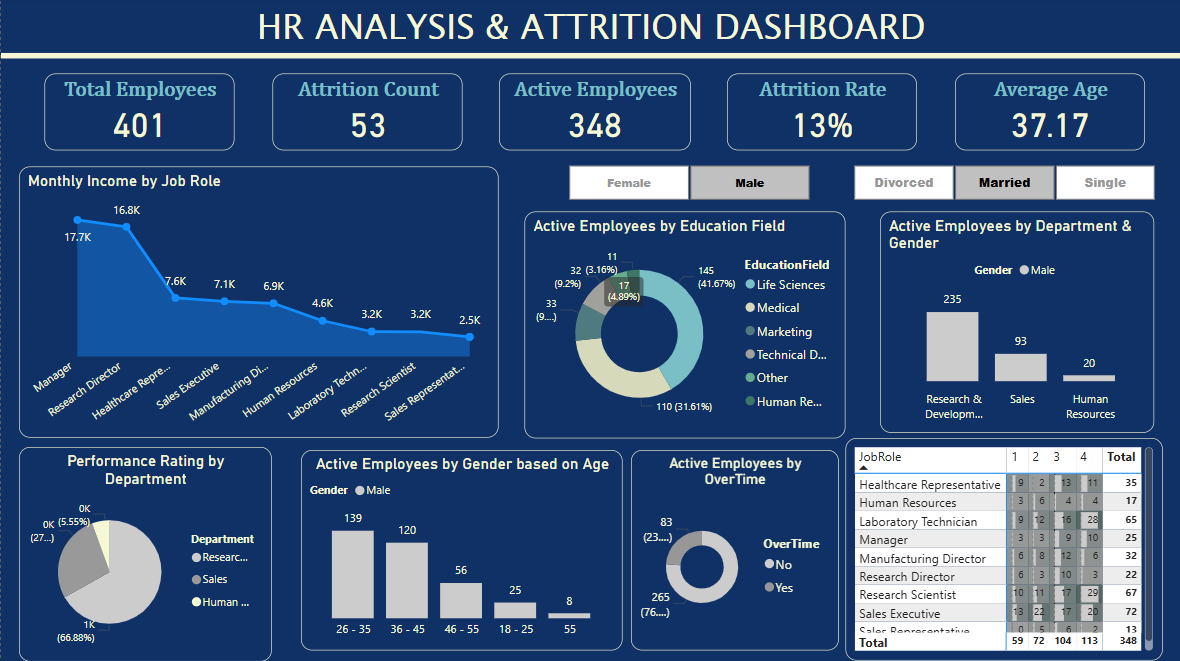

This screenshot's page, from the dashboard's own definition file:
{"tool":"powerbi","page":{"name":"Page 1","canvas":[1280,720],"ordinal":0},"visuals":[{"type":"shape","box":[0,46.2,1280,36.2],"z":0},{"type":"card","title":"Total Employees","fields":{"Values":["HR-Employee-Attrition.Total Employees"]},"box":[47.7,82.4,206,83.2],"z":1000},{"type":"card","title":"Attrition Count","fields":{"Values":["Sum(HR-Employee-Attrition.Attrition Count)"]},"box":[293.8,82.4,206,83.2],"z":2000},{"type":"card","title":"Attrition Rate","fields":{"Values":["HR-Employee-Attrition.Attrition Rate"]},"box":[788,82.4,206,83.2],"z":3000},{"type":"card","title":"Active Employees","fields":{"Values":["HR-Employee-Attrition.Active Employees"]},"box":[539.9,82.4,207.9,83.2],"z":4000},{"type":"card","title":"Average Age","fields":{"Values":["Avg(HR-Employee-Attrition.Age)"]},"box":[1034.1,82.4,206,83.2],"z":5000},{"type":"areaChart","title":"Monthly Income by Job Role","fields":{"Category":["HR-Employee-Attrition.JobRole"],"Y":["Avg(HR-Employee-Attrition.MonthlyIncome)"]},"box":[20,184,520,294],"z":6000},{"type":"donutChart","title":"Active Employees by Education Field","fields":{"Category":["HR-Employee-Attrition.EducationField"],"Y":["HR-Employee-Attrition.Active Employees"]},"box":[568,232,348,246],"z":7000},{"type":"clusteredColumnChart","title":"Active Employees by Department & Gender","fields":{"Y":["HR-Employee-Attrition.Active Employees"],"Category":["HR-Employee-Attrition.Department"],"Series":["HR-Employee-Attrition.Gender"]},"box":[952.5,232.5,297.5,240],"z":8000},{"type":"pieChart","title":"Performance Rating by Department","fields":{"Y":["Sum(HR-Employee-Attrition.PerformanceRating)"],"Category":["HR-Employee-Attrition.Department"]},"box":[20,487.5,273.8,232.5],"z":9000},{"type":"clusteredColumnChart","title":"Active Employees by Gender based on Age ","fields":{"Category":["HR-Employee-Attrition (3).AgeGroup"],"Y":["HR-Employee-Attrition.Active Employees"],"Series":["HR-Employee-Attrition (3).Gender"]},"box":[325,491.2,348.8,217.5],"z":10000},{"type":"slicer","fields":{"Values":["HR-Employee-Attrition.Gender"]},"box":[590,175,310,51.2],"z":11000},{"type":"textbox","box":[0,0,1280,78],"z":12000},{"type":"pivotTable","fields":{"Rows":["HR-Employee-Attrition.JobRole"],"Values":["HR-Employee-Attrition.Active Employees"],"Columns":["HR-Employee-Attrition.JobSatisfaction"]},"box":[915,478.8,343.8,241.2],"z":13000},{"type":"donutChart","fields":{"Y":["HR-Employee-Attrition.Active Employees"],"Category":["HR-Employee-Attrition (3).OverTime"]},"box":[682.5,491.2,225,217.5],"z":14000},{"type":"slicer","fields":{"Values":["HR-Employee-Attrition.MaritalStatus"]},"box":[898.9,175.6,375.6,51.1],"z":15000}]}

Visuals, with their boxes in screenshot pixels (x1, y1, x2, y2), scaled from the page's 1280x720 canvas onto the 1180x661 screenshot:
shape: locate(0, 42, 1179, 76)
"Total Employees" card: locate(44, 76, 234, 152)
"Attrition Count" card: locate(271, 76, 461, 152)
"Attrition Rate" card: locate(726, 76, 916, 152)
"Active Employees" card: locate(498, 76, 689, 152)
"Average Age" card: locate(953, 76, 1143, 152)
"Monthly Income by Job Role" areaChart: locate(18, 169, 498, 439)
"Active Employees by Education Field" donutChart: locate(524, 213, 844, 439)
"Active Employees by Department & Gender" clusteredColumnChart: locate(878, 213, 1152, 434)
"Performance Rating by Department" pieChart: locate(18, 448, 271, 660)
"Active Employees by Gender based on Age " clusteredColumnChart: locate(300, 451, 621, 651)
slicer - HR-Employee-Attrition.Gender: locate(544, 161, 830, 208)
textbox: locate(0, 0, 1179, 72)
pivotTable - HR-Employee-Attrition.JobRole x HR-Employee-Attrition.Active Employees: locate(844, 440, 1160, 660)
donutChart - HR-Employee-Attrition.Active Employees x HR-Employee-Attrition (3).OverTime: locate(629, 451, 837, 651)
slicer - HR-Employee-Attrition.MaritalStatus: locate(829, 161, 1175, 208)
